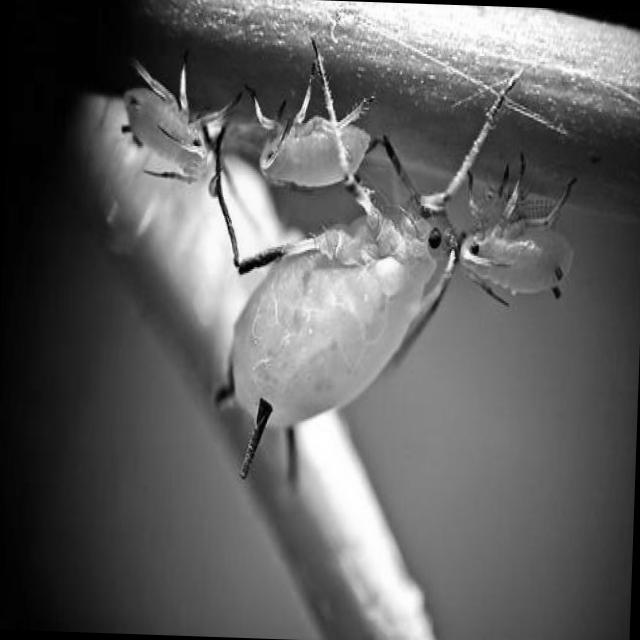Aphids: (208, 106, 501, 490), (434, 164, 590, 342), (235, 47, 414, 199), (116, 68, 227, 194)
